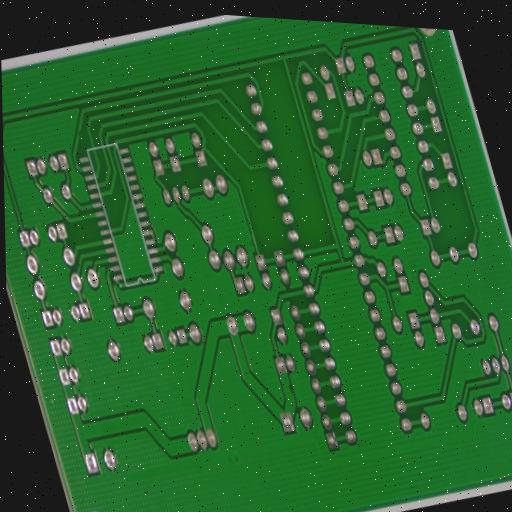mouse_bite: (284, 379, 295, 399), (73, 126, 84, 140), (73, 258, 81, 270)
